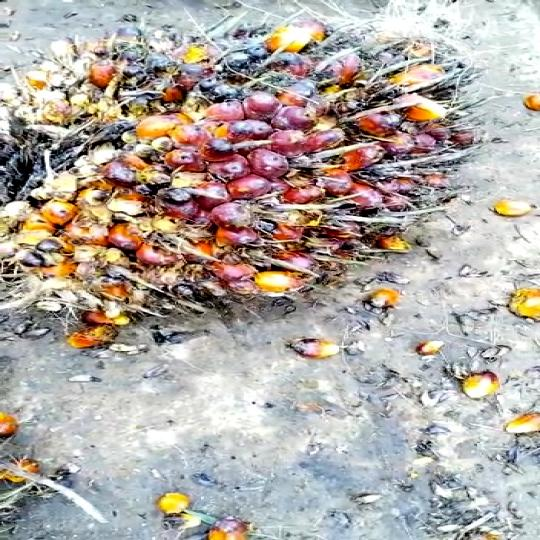masak: (0, 25, 540, 334)
